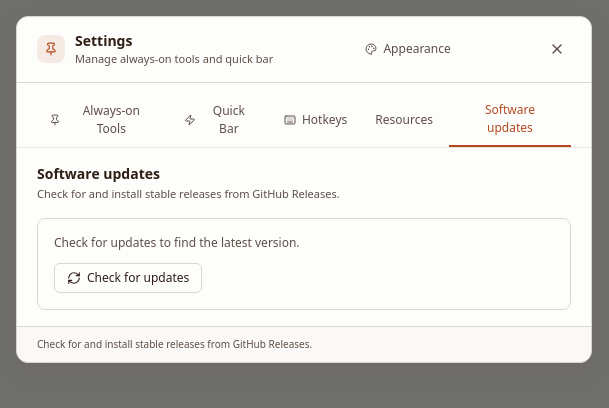
Test: software update status › shows a failed check without claiming to be up to date
Click the button "Check for updates": (128, 278) [54,263,202,293]
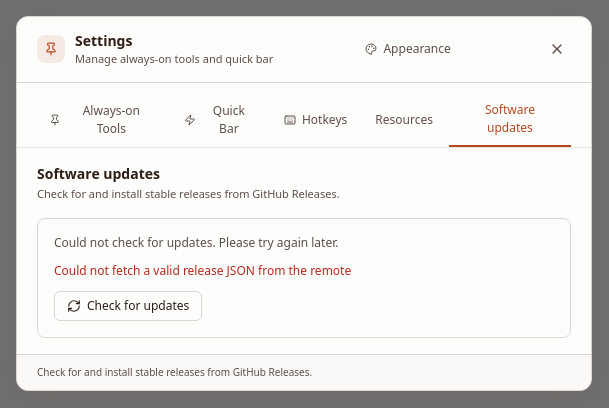
Result: the text "Could not fetch a valid release JSON from the remote" is shown at [54,262,351,279]
